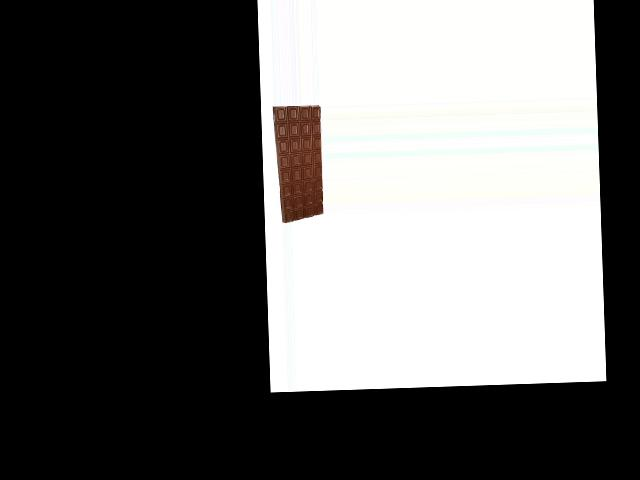chocolate: (274, 103, 324, 224)
